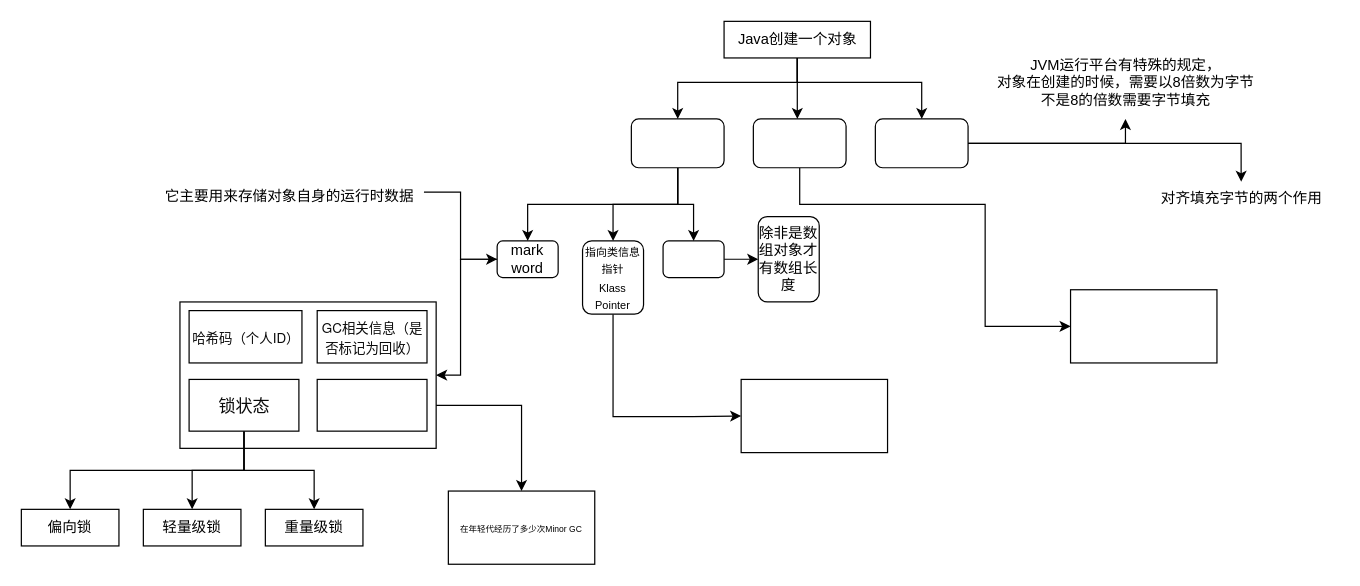
The diagram is 1360 pixels wide and 586 high, and some of its shapes have lost their labels. The centre of each missing label's shape, as x and y in pixels:
分代年龄: point (371, 404)
实例数据: point (799, 143)
对象头: point (677, 143)
对齐填充字节: point (921, 143)
数组长度: point (693, 259)
类的元数据信息: point (814, 415)
